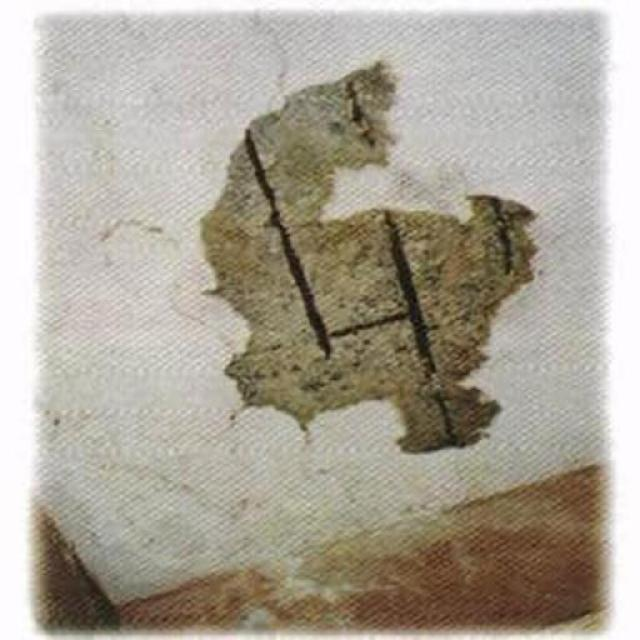D0w0: (198, 59, 539, 456)
